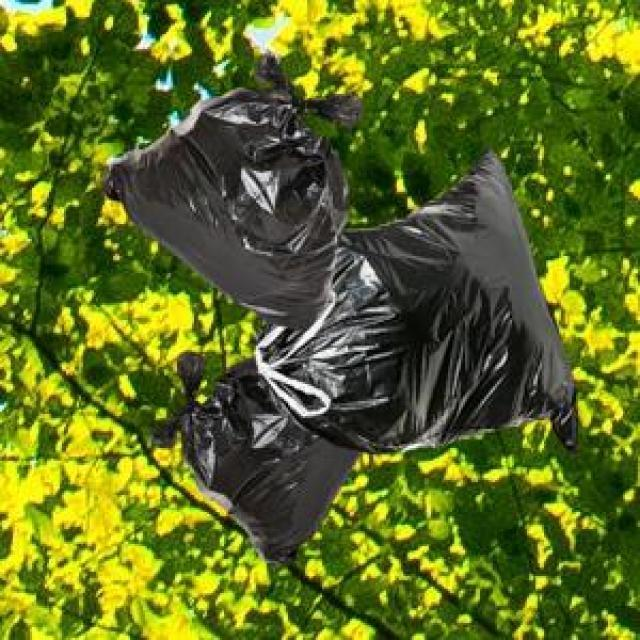Vinyl: (105, 89, 575, 563)
